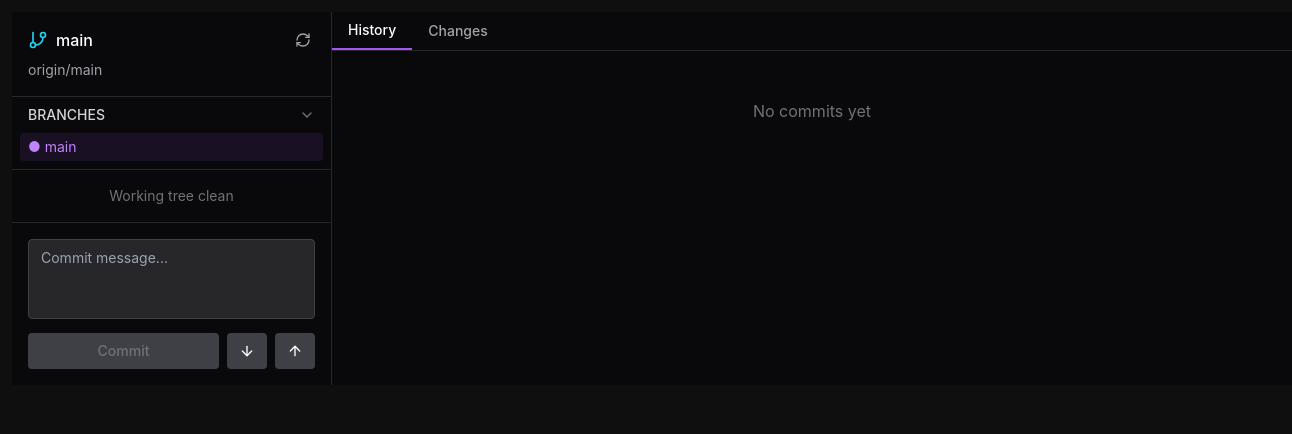
GitPanel › Pull/Push Operations › should display error when pull fails
Click the button titled "Pull" at (247, 351), box [227, 333, 267, 369]
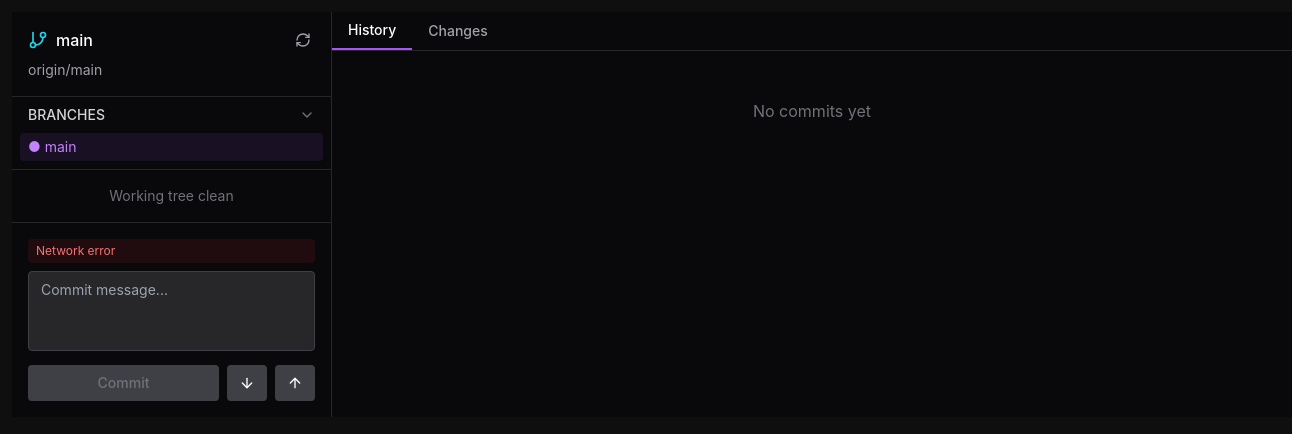
Expected: the text "Network error" is shown, [28, 239, 315, 263]
